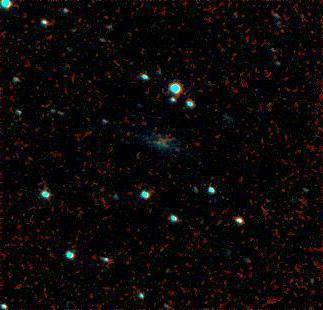star: (37, 21, 67, 51)
